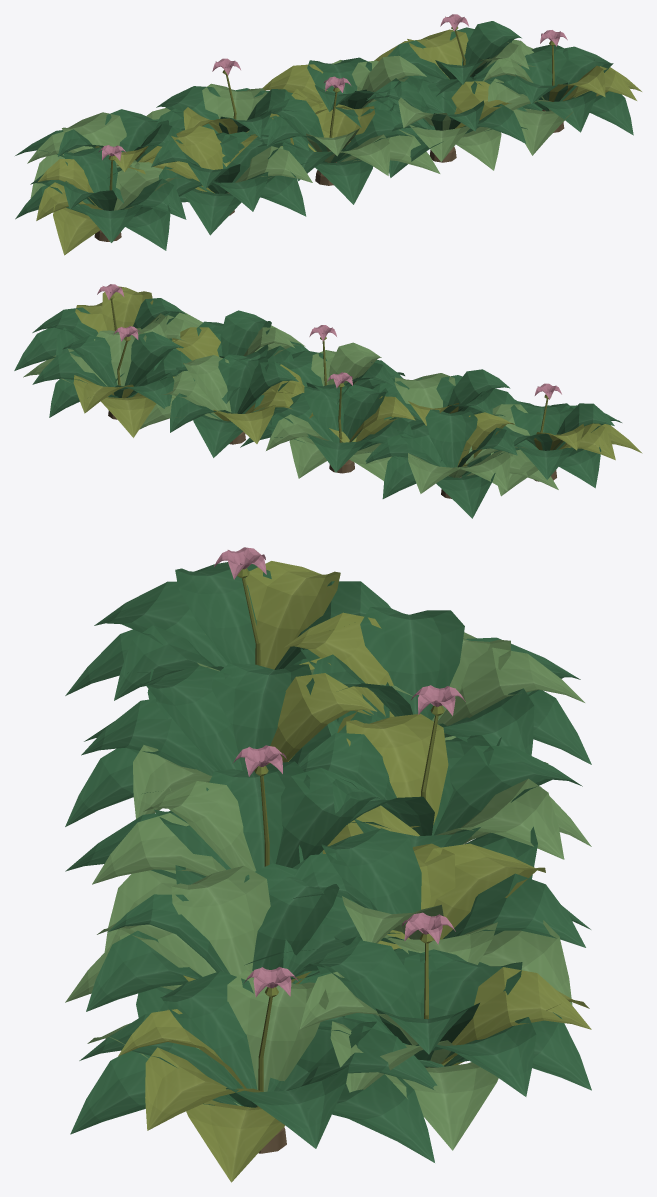
The model's file is AST-BOT-003_pool_basal_05.glb.
The picture shows the model from 3 angles, top to bottom: view 1: azimuth 30°, elevation 25°; view 2: azimuth 150°, elevation 25°; view 3: azimuth 270°, elevation 25°; orthographic projection. The views are drawn at different scales.
Visible parts, largest first — view 1: RT_AST-BOT-003_pool_basal_05__leaf_jade, RT_AST-BOT-003_pool_basal_05__leaf_sage, RT_AST-BOT-003_pool_basal_05__leaf_olive, RT_AST-BOT-003_pool_basal_05__flower, RT_AST-BOT-003_pool_basal_05__bark; view 2: RT_AST-BOT-003_pool_basal_05__leaf_jade, RT_AST-BOT-003_pool_basal_05__leaf_sage, RT_AST-BOT-003_pool_basal_05__leaf_olive, RT_AST-BOT-003_pool_basal_05__flower, RT_AST-BOT-003_pool_basal_05__bark; view 3: RT_AST-BOT-003_pool_basal_05__leaf_jade, RT_AST-BOT-003_pool_basal_05__leaf_sage, RT_AST-BOT-003_pool_basal_05__leaf_olive, RT_AST-BOT-003_pool_basal_05__flower.
Part boxes in pixels (box(x1,y1,x2,y2)): RT_AST-BOT-003_pool_basal_05__leaf_jade: box(15, 21, 633, 250); RT_AST-BOT-003_pool_basal_05__leaf_sage: box(27, 39, 573, 210); RT_AST-BOT-003_pool_basal_05__leaf_olive: box(36, 26, 641, 255); RT_AST-BOT-003_pool_basal_05__flower: box(98, 14, 567, 160); RT_AST-BOT-003_pool_basal_05__bark: box(94, 109, 564, 241); RT_AST-BOT-003_pool_basal_05__leaf_jade: box(14, 298, 621, 518); RT_AST-BOT-003_pool_basal_05__leaf_sage: box(23, 311, 558, 496); RT_AST-BOT-003_pool_basal_05__leaf_olive: box(73, 286, 642, 466); RT_AST-BOT-003_pool_basal_05__flower: box(97, 284, 561, 399); RT_AST-BOT-003_pool_basal_05__bark: box(108, 410, 556, 498); RT_AST-BOT-003_pool_basal_05__leaf_jade: box(65, 562, 591, 1162); RT_AST-BOT-003_pool_basal_05__leaf_sage: box(65, 632, 591, 1150); RT_AST-BOT-003_pool_basal_05__leaf_olive: box(118, 561, 591, 1182); RT_AST-BOT-003_pool_basal_05__flower: box(214, 547, 465, 996).
Size of the model in its own units: 2.17 by 0.3414 by 0.86.
5 materials, 5 textured.
